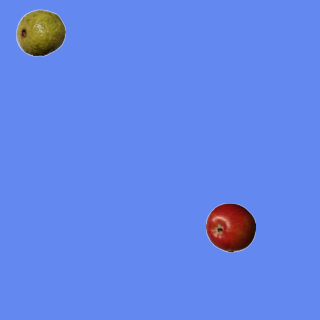Apple Braeburn: (205, 202, 255, 252)
Guava: (15, 7, 65, 57)
